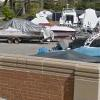Boat: (2, 12, 76, 48)
